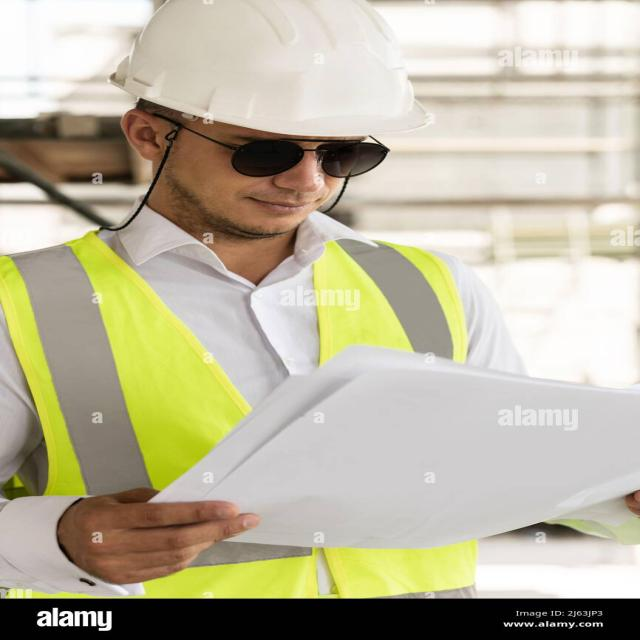goggles: (213, 133, 391, 182)
helmet: (107, 0, 455, 140)
vest: (0, 229, 487, 601)
